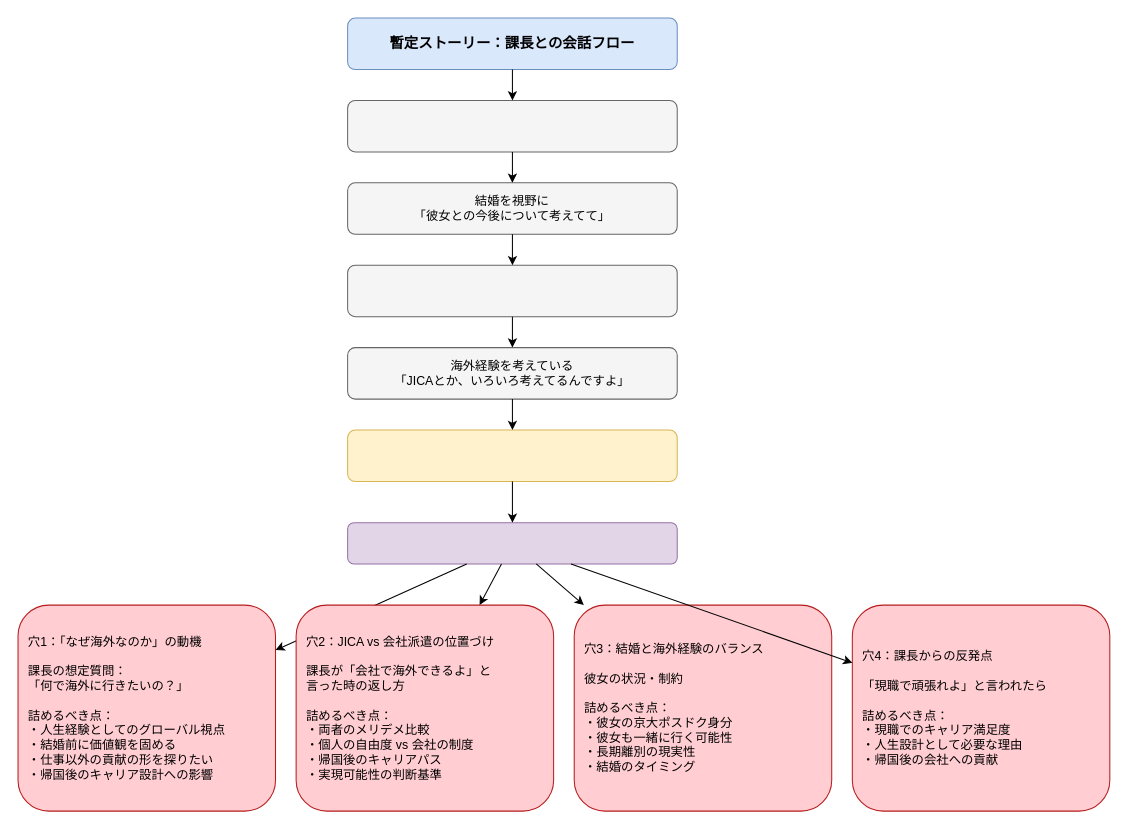
The diagram is 1128 pixels wide and 829 high, and some of its shapes have lost their labels. The box of each missing label's shape, as (x1, y1, x2, y2) in pixels:
引き出したい反応 会社から海外派遣の話があるか（探り探りで）: (347, 429, 677, 482)
時間的な猶予 「来年までに決めなくちゃいけなくて」: (347, 264, 677, 317)
穴・詰めるべき観点: (347, 522, 677, 564)
背景の提示 「最近、人生の大事な決断を考えている」: (347, 99, 677, 152)
